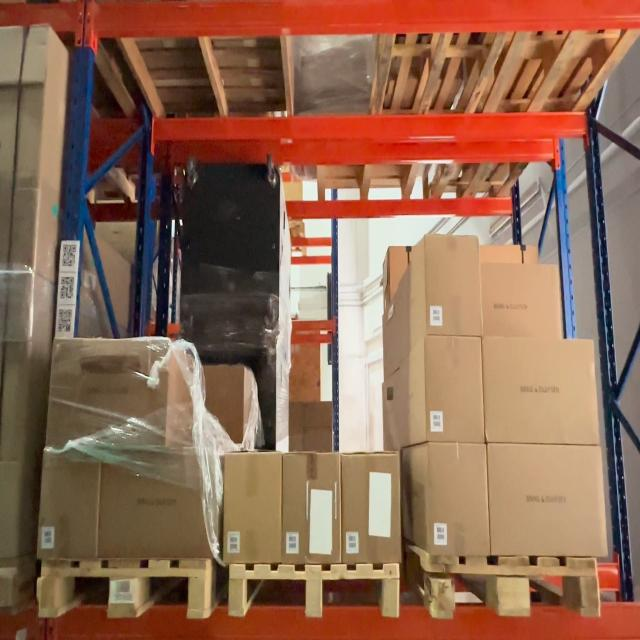box: (180, 158, 280, 337), (487, 440, 605, 558), (44, 334, 166, 448), (92, 452, 217, 554), (489, 339, 601, 439), (38, 441, 98, 568), (426, 444, 488, 559), (425, 236, 488, 347), (219, 456, 281, 567), (284, 456, 338, 564), (346, 456, 399, 566), (433, 338, 486, 440), (488, 269, 568, 334)
